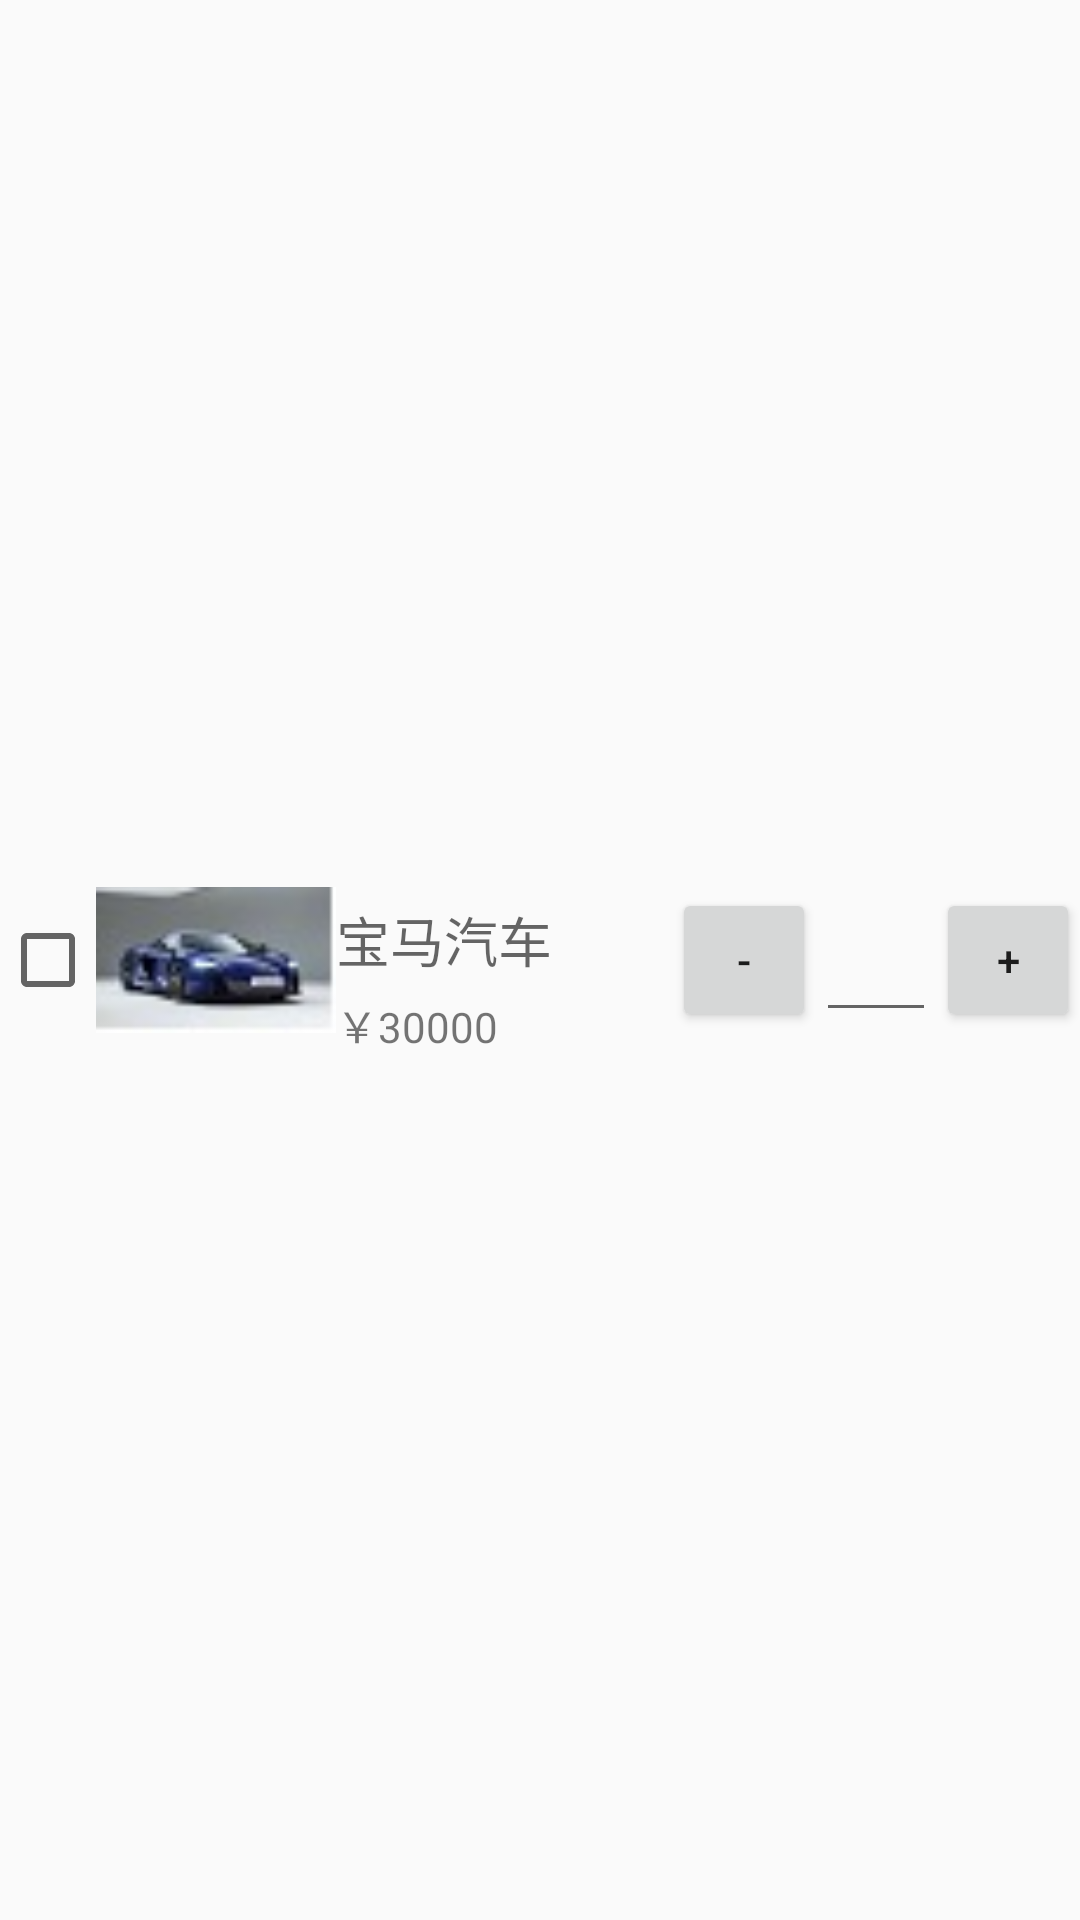

Screen size 1080 × 1920. Icon name, then its box in pixels as (x1, y1, x2, y2):
car: (96, 887, 333, 1028)
